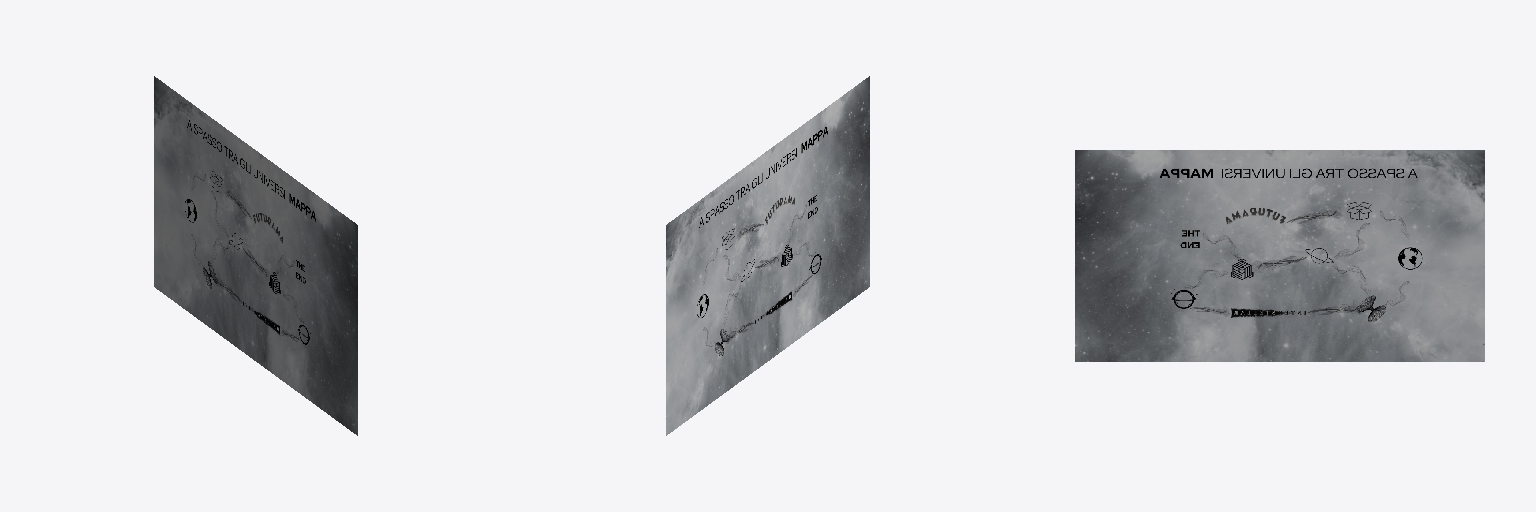
3 views of the same model, side by side, from view 1: azimuth 30°, elevation 25°; view 2: azimuth 150°, elevation 25°; view 3: azimuth 270°, elevation 25° (orthographic).
Parts seen in each view (by area): view 1: Piano; view 2: Piano; view 3: Piano.
Part boxes in pixels (bbox=[...]): Piano: bbox=[154, 76, 357, 435]; Piano: bbox=[666, 76, 869, 435]; Piano: bbox=[1075, 150, 1484, 361].
Bounding box in the file's own units: 0 × 2 × 3.51.
Materials: 1 (1 with a texture image).